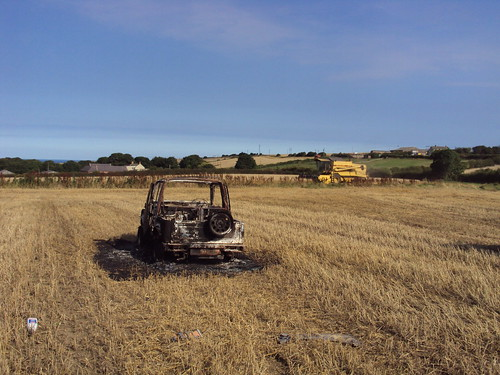car: (123, 169, 254, 260)
sky: (4, 1, 500, 144)
tree: (429, 147, 463, 183), (229, 148, 259, 170)
